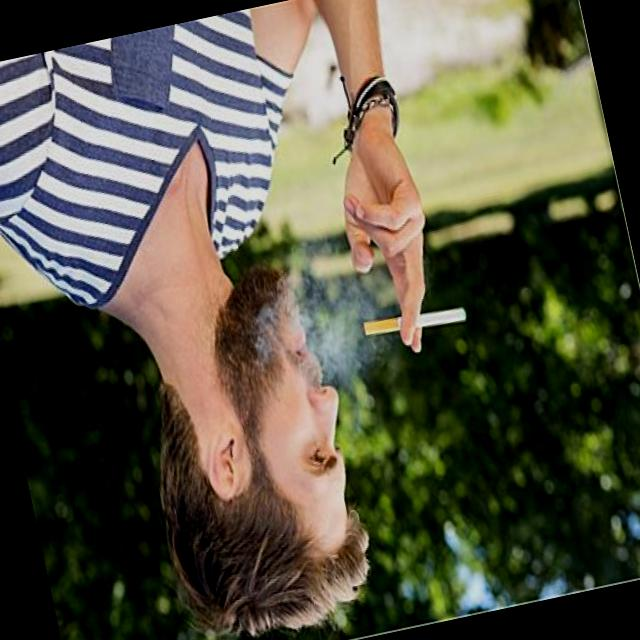smoke: (358, 292, 472, 346)
